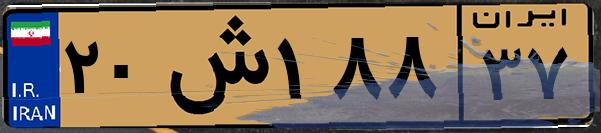0: (110, 28, 158, 98)
1: (270, 28, 330, 110)
2: (57, 26, 110, 100)
3: (475, 38, 525, 113)
7: (525, 38, 570, 115)
8: (385, 28, 445, 110), (330, 28, 385, 110)
ش: (158, 12, 270, 120)
